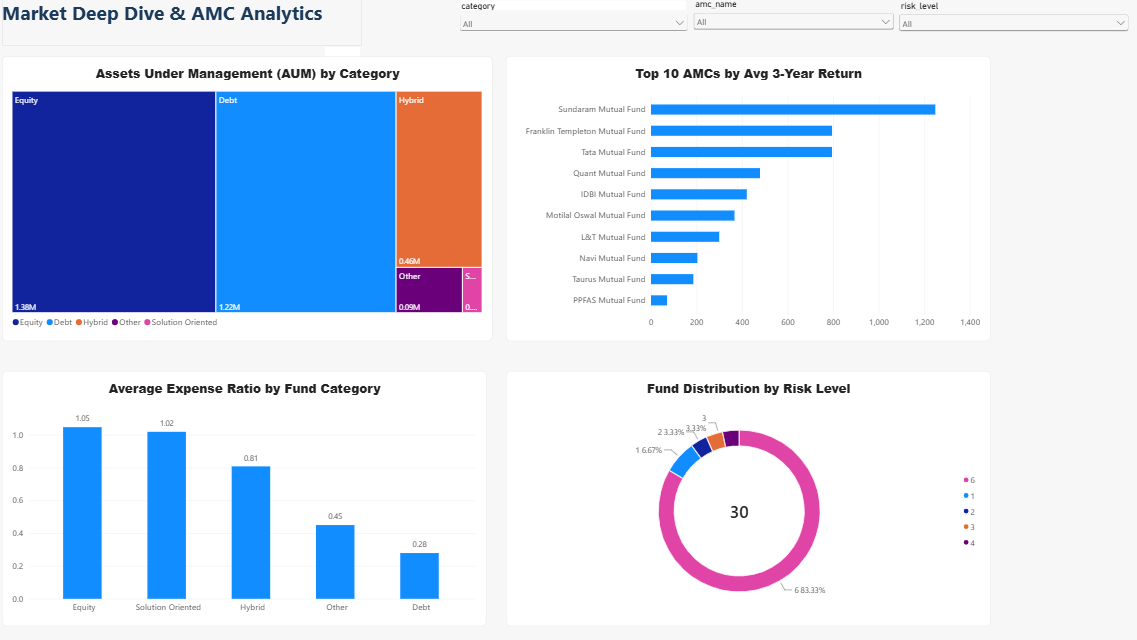

The dashboard page shown, as its layout file describes it:
{"tool":"powerbi","page":{"name":"Market Deep Dive","canvas":[1920,1080],"ordinal":1},"visuals":[{"type":"textbox","box":[10,0,600,77.5],"z":0},{"type":"slicer","fields":{"Values":["All Funds.category"]},"box":[766.7,3.3,390,60],"z":1},{"type":"slicer","fields":{"Values":["All Funds.amc_name"]},"box":[1156.7,0,343.3,63.3],"z":2},{"type":"slicer","fields":{"Values":["All Funds.risk_level"]},"box":[1500,2.5,392.5,60],"z":3},{"type":"treemap","title":"Assets Under Management (AUM) by Category","fields":{"Group":["All Funds.category"],"Values":["Sum(All Funds.fund_size_cr)"]},"box":[10,95,817.5,475],"z":4},{"type":"clusteredBarChart","title":"Top 10 AMCs by Avg 3-Year Return","fields":{"Category":["All Funds.amc_name"],"Y":["Sum(All Funds.returns_3yr)"]},"box":[850,95,807.5,475],"z":5},{"type":"clusteredColumnChart","title":"Average Expense Ratio by Fund Category","fields":{"Category":["All Funds.category"],"Y":["Avg(All Funds.expense_ratio)"]},"box":[10,620,807.5,425],"z":6},{"type":"donutChart","title":"Fund Distribution by Risk Level","fields":{"Category":["Top 30 Funds.risk_level"],"Y":["CountNonNull(Top 30 Funds.scheme_name)"]},"box":[850,620,808,425],"z":7}]}

Visuals, with their boxes in screenshot pixels (x1, y1, x2, y2), scaled from the page's 1920x1080 canvas onto the 1137x640 screenshot:
textbox: detection(6, 0, 361, 46)
slicer - All Funds.category: detection(454, 2, 685, 38)
slicer - All Funds.amc_name: detection(685, 0, 888, 38)
slicer - All Funds.risk_level: detection(888, 1, 1121, 37)
"Assets Under Management (AUM) by Category" treemap: detection(6, 56, 490, 338)
"Top 10 AMCs by Avg 3-Year Return" clusteredBarChart: detection(503, 56, 982, 338)
"Average Expense Ratio by Fund Category" clusteredColumnChart: detection(6, 367, 484, 619)
"Fund Distribution by Risk Level" donutChart: detection(503, 367, 982, 619)
